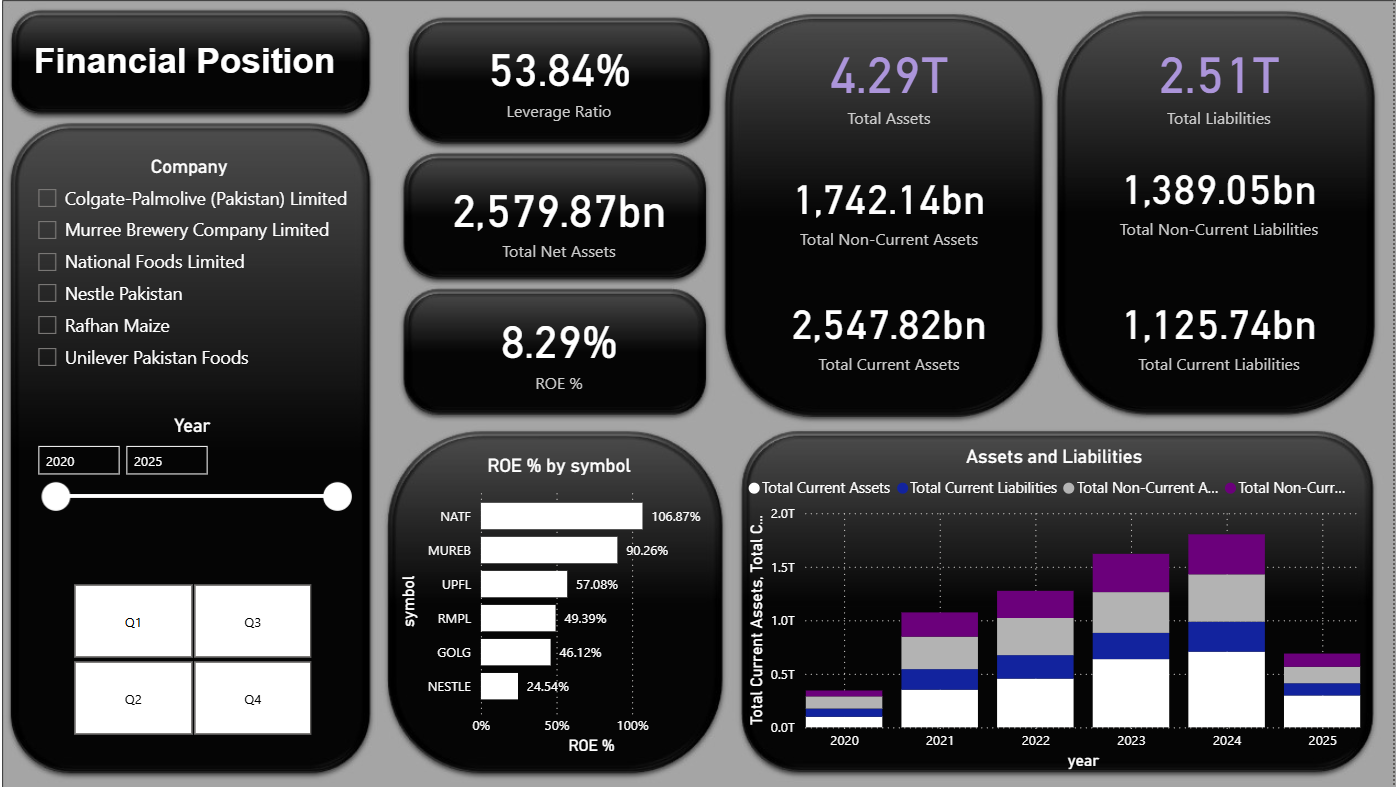

The dashboard page shown, as its layout file describes it:
{"tool":"powerbi","page":{"name":"Financial Position ","canvas":[1280,720],"ordinal":2},"visuals":[{"type":"card","fields":{"Values":["FinancialPositionMart.Total Net Assets"]},"box":[393.6,142.7,256.4,112.7],"z":0},{"type":"card","fields":{"Values":["FinancialPositionMart.ROE %"]},"box":[371.8,243.6,300,150],"z":1},{"type":"card","fields":{"Values":["FinancialPositionMart.Leverage Ratio"]},"box":[371.8,0,300,142.7],"z":2},{"type":"card","fields":{"Values":["FinancialPositionMart.Total Assets"]},"box":[671.8,0,300,150],"z":3},{"type":"card","fields":{"Values":["FinancialPositionMart.Total Liabilities"]},"box":[971.8,0,300,150],"z":4},{"type":"card","fields":{"Values":["FinancialPositionMart.Total Current Assets"]},"box":[671.8,228.2,300,150],"z":5},{"type":"card","fields":{"Values":["FinancialPositionMart.Total Non-Current Assets"]},"box":[671.8,114.5,300,150],"z":6},{"type":"card","fields":{"Values":["FinancialPositionMart.Total Current Liabilities"]},"box":[971.8,228.2,300,150],"z":7},{"type":"card","fields":{"Values":["FinancialPositionMart.Total Non-Current Liabilities"]},"box":[971.8,105.5,300,150],"z":8},{"type":"slicer","title":"Company","fields":{"Values":["FinancialPositionMart.company_name"]},"box":[35.5,142.7,300,211.8],"z":9},{"type":"slicer","title":"Year","fields":{"Values":["FinancialPositionMart.year"]},"box":[35.5,378.2,305.5,150],"z":10},{"type":"slicer","fields":{"Values":["FinancialPositionMart.quarter"]},"box":[55.5,526.4,265.5,150],"z":11},{"type":"barChart","fields":{"Y":["FinancialPositionMart.ROE %"],"Category":["FinancialPositionMart.symbol"]},"box":[371.8,414.5,300,278.2],"z":12},{"type":"columnChart","title":"Assets and Liabilities","fields":{"Y":["FinancialPositionMart.Total Current Assets","FinancialPositionMart.Total Current Liabilities","FinancialPositionMart.Total Non-Current Assets","FinancialPositionMart.Total Non-Current Liabilities"],"Category":["FinancialPositionMart.year"]},"box":[688.2,406.4,567.3,300],"z":13},{"type":"textbox","box":[36.4,34.5,299.1,124.5],"z":14}]}

Visuals, with their boxes in screenshot pixels (x1, y1, x2, y2), scaled from the page's 1280x720 canvas onto the 1396x787 screenshot:
card - FinancialPositionMart.Total Net Assets: left=429, top=156, right=709, bottom=279
card - FinancialPositionMart.ROE %: left=405, top=266, right=733, bottom=430
card - FinancialPositionMart.Leverage Ratio: left=405, top=0, right=733, bottom=156
card - FinancialPositionMart.Total Assets: left=733, top=0, right=1060, bottom=164
card - FinancialPositionMart.Total Liabilities: left=1060, top=0, right=1387, bottom=164
card - FinancialPositionMart.Total Current Assets: left=733, top=249, right=1060, bottom=413
card - FinancialPositionMart.Total Non-Current Assets: left=733, top=125, right=1060, bottom=289
card - FinancialPositionMart.Total Current Liabilities: left=1060, top=249, right=1387, bottom=413
card - FinancialPositionMart.Total Non-Current Liabilities: left=1060, top=115, right=1387, bottom=279
"Company" slicer: left=39, top=156, right=366, bottom=387
"Year" slicer: left=39, top=413, right=372, bottom=577
slicer - FinancialPositionMart.quarter: left=61, top=575, right=350, bottom=739
barChart - FinancialPositionMart.ROE % x FinancialPositionMart.symbol: left=405, top=453, right=733, bottom=757
"Assets and Liabilities" columnChart: left=751, top=444, right=1369, bottom=772
textbox: left=40, top=38, right=366, bottom=174
